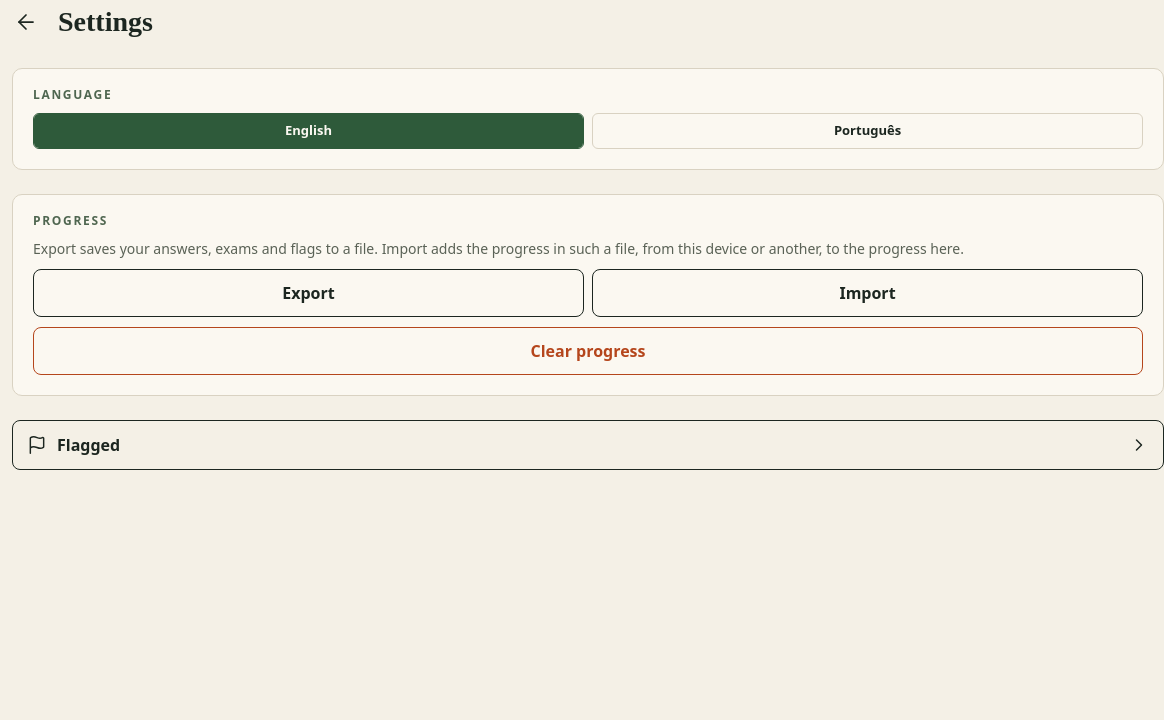
Test case: Settings language › switches the whole app to Portuguese, sets <html lang> and keeps the choice for the next visit
The width and height of the screenshot is (1164, 720).
Click the button "Português". click: click(868, 131)
box: [592, 113, 1143, 149]
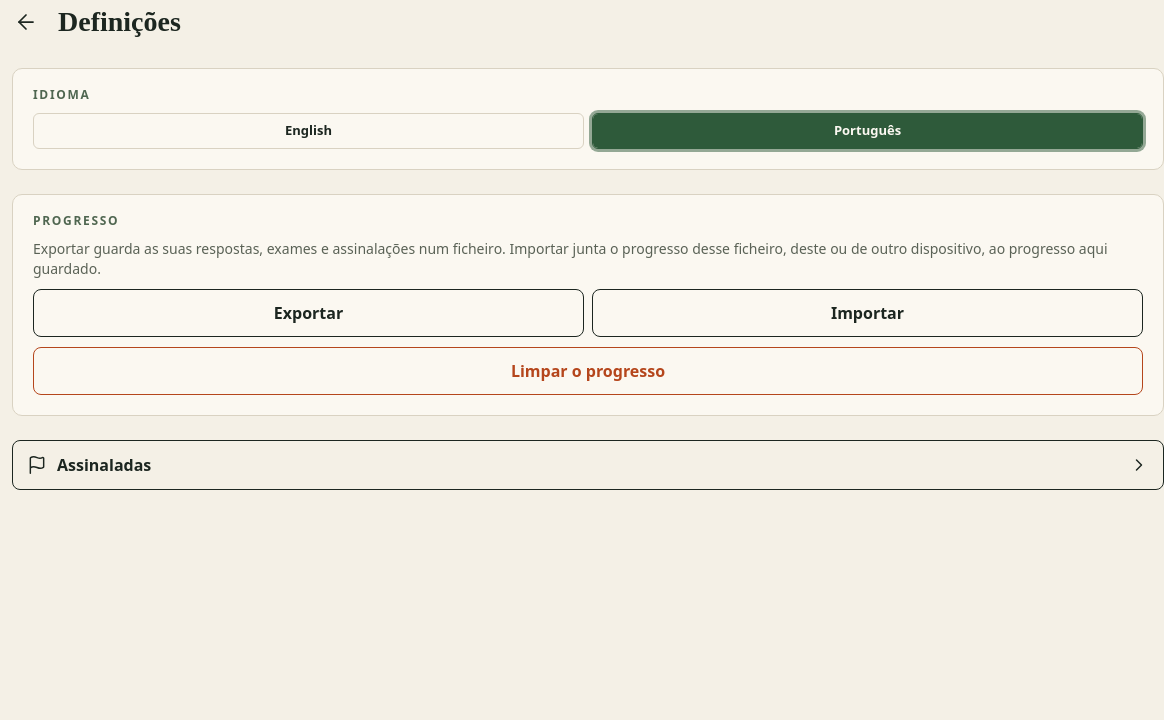
Expected: the heading "Definições" is shown, [58, 6, 181, 37]
Expected: the button "Exportar" is shown, [33, 289, 584, 337]
Click the button "English". click: click(308, 131)
box: [33, 113, 584, 149]
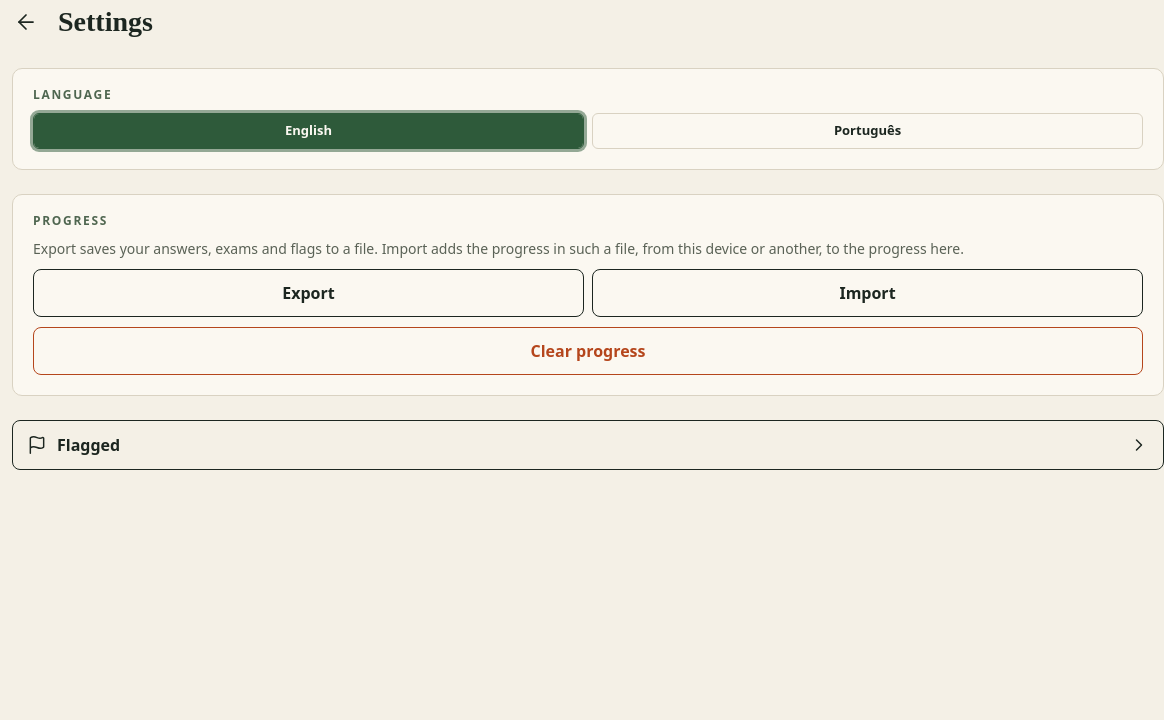
Expected: the heading "Settings" is shown, [58, 6, 153, 37]
